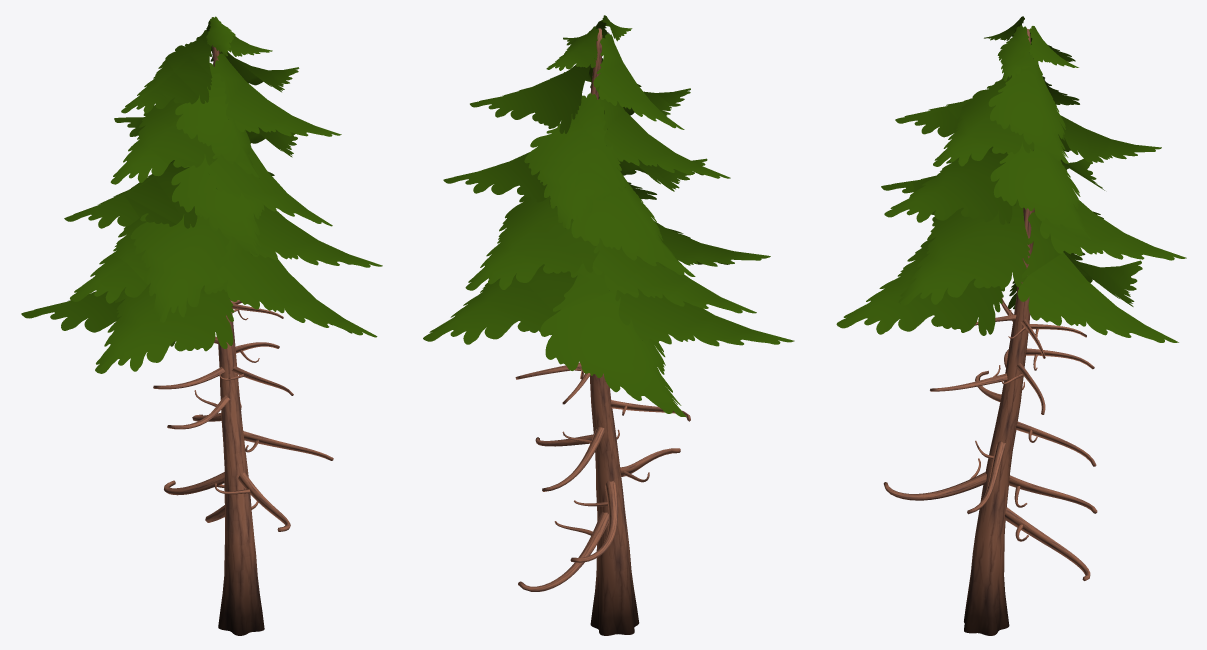
File: Pine_3.glb
3 renders of one model, left to right at view 1: azimuth 30°, elevation 25°; view 2: azimuth 150°, elevation 25°; view 3: azimuth 270°, elevation 25°, orthographic. The views are drawn at different scales.
Visible parts, largest first — view 1: Pine_3; view 2: Pine_3; view 3: Pine_3.
Boxes of the visible parts, x1=… form: Pine_3: x1=21, y1=16, x2=382, y2=635; Pine_3: x1=423, y1=15, x2=794, y2=635; Pine_3: x1=836, y1=16, x2=1186, y2=635.
Size of the model in its own units: 3.61 by 7.39 by 4.
Materials: 2 (2 with a texture image).
